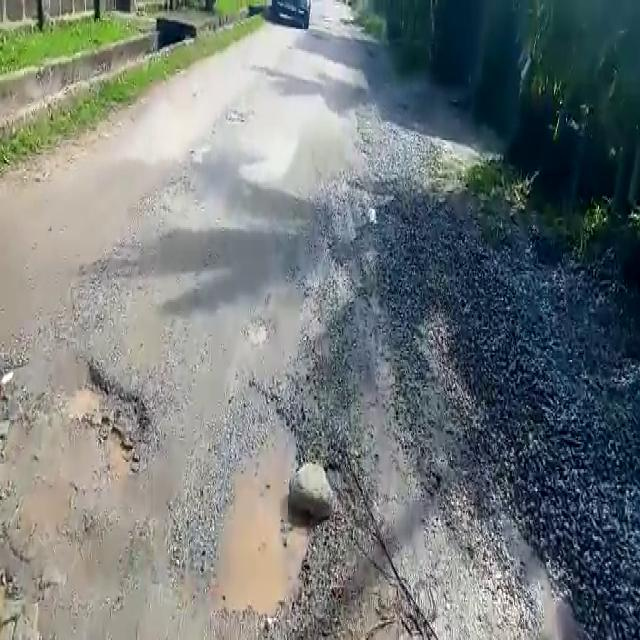Pothole: (207, 410, 312, 610), (66, 362, 156, 479)
